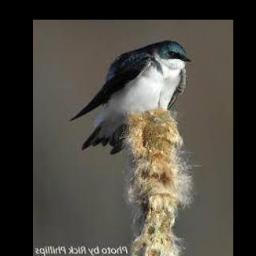Swallow: (70, 39, 194, 154)
